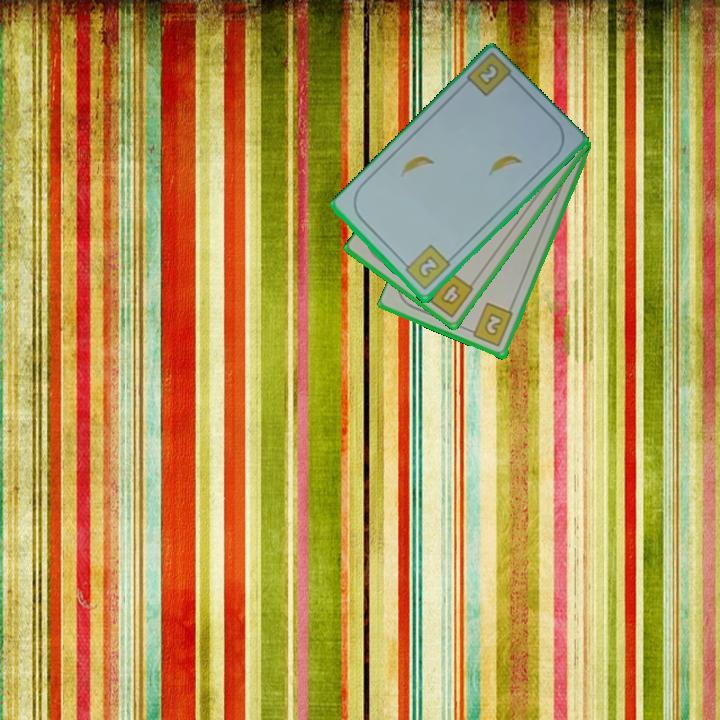2b: (399, 242, 453, 293), (464, 300, 516, 350), (474, 60, 502, 89)
4b: (422, 268, 476, 321)
